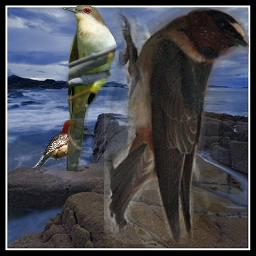Cuckoo: (62, 4, 118, 171)
Swallow: (104, 7, 249, 244)
Woodpecker: (32, 119, 90, 169)
